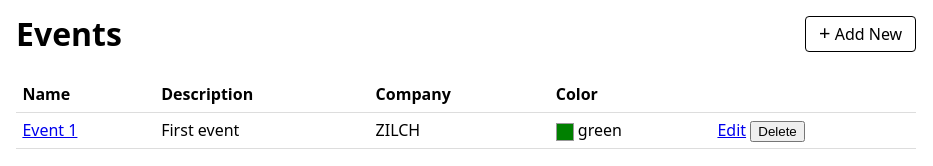
3. Delete event › shows the empty state after deleting the last event
Expected: the table is shown, left=16, top=77, right=916, bottom=150
Click the button with aria-label "Delete Event 1" at (778, 132), box left=750, top=121, right=805, bottom=142
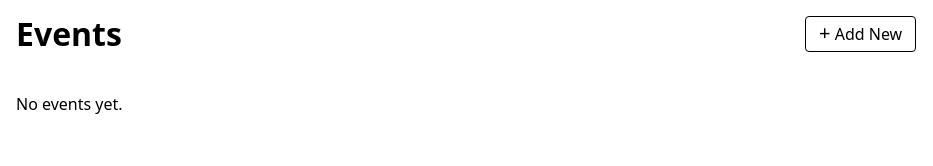
Expected: the text "No events yet." is shown, left=16, top=93, right=123, bottom=115
